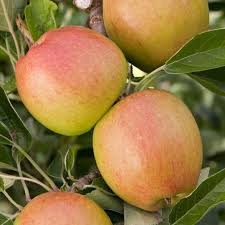apple: (92, 89, 203, 214), (15, 25, 128, 137)
